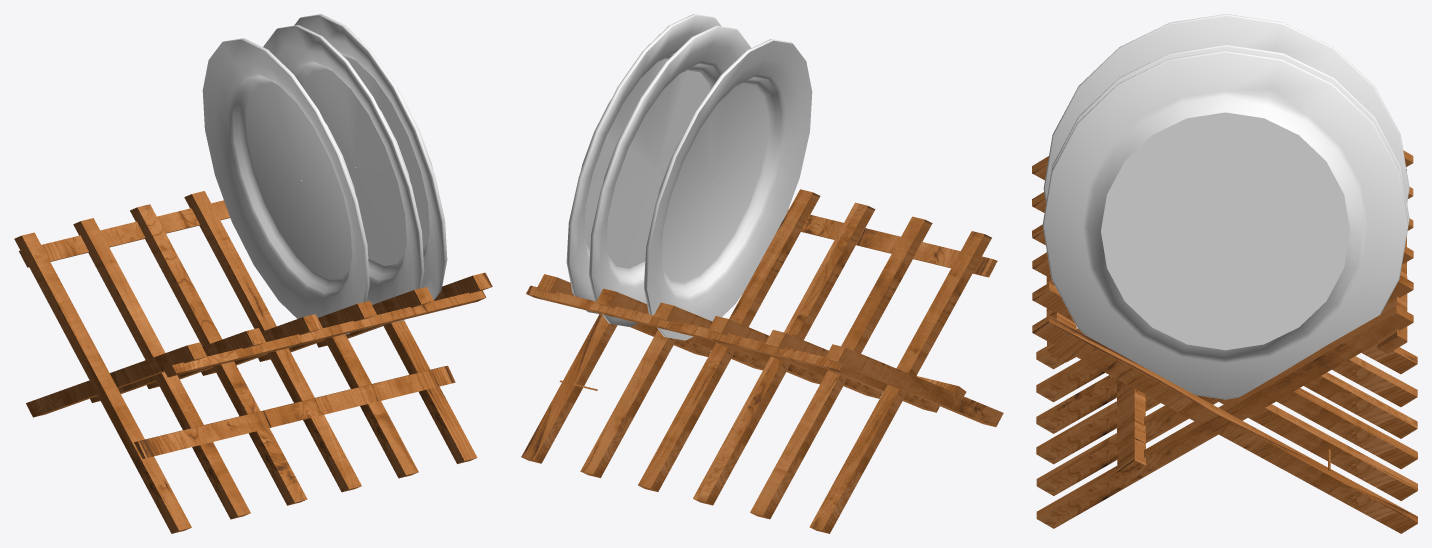
File: Dish rack.FBX
The picture shows the model from 3 angles, left to right: view 1: azimuth 30°, elevation 25°; view 2: azimuth 150°, elevation 25°; view 3: azimuth 270°, elevation 25°; orthographic projection. The views are drawn at different scales.
Visible parts, largest first — view 1: dish rack; view 2: dish rack; view 3: dish rack.
Boxes of the visible parts, box(x1,y1,x2,y2) form: dish rack: box(14, 14, 492, 533); dish rack: box(521, 14, 1003, 533); dish rack: box(1032, 14, 1417, 533).
Size of the model in its own units: 30.59 by 36.81 by 28.63.
2 materials, 1 textured.
